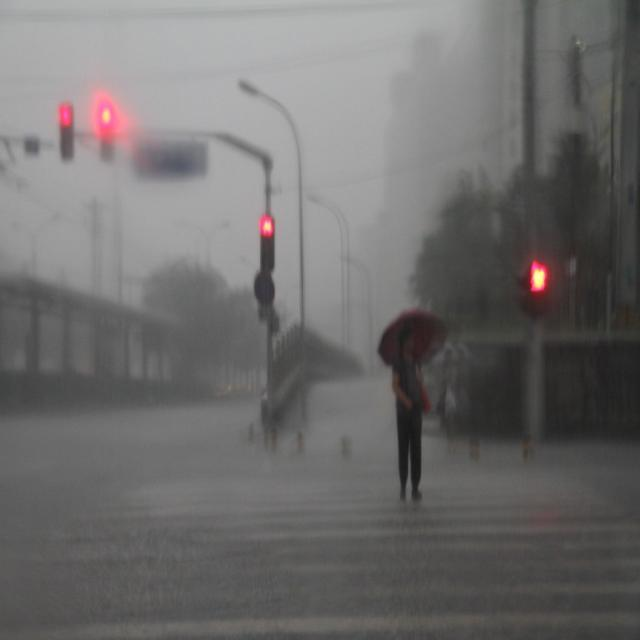traffic light: (96, 101, 115, 160), (59, 103, 76, 161), (261, 215, 276, 272)
